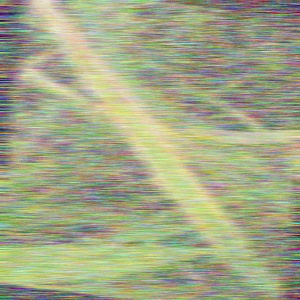Leaf_Blast: (124, 142, 186, 196)
